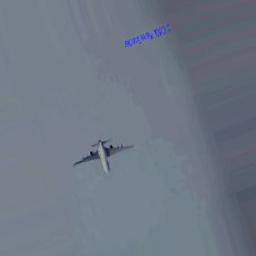Airplane: (72, 138, 134, 175)
